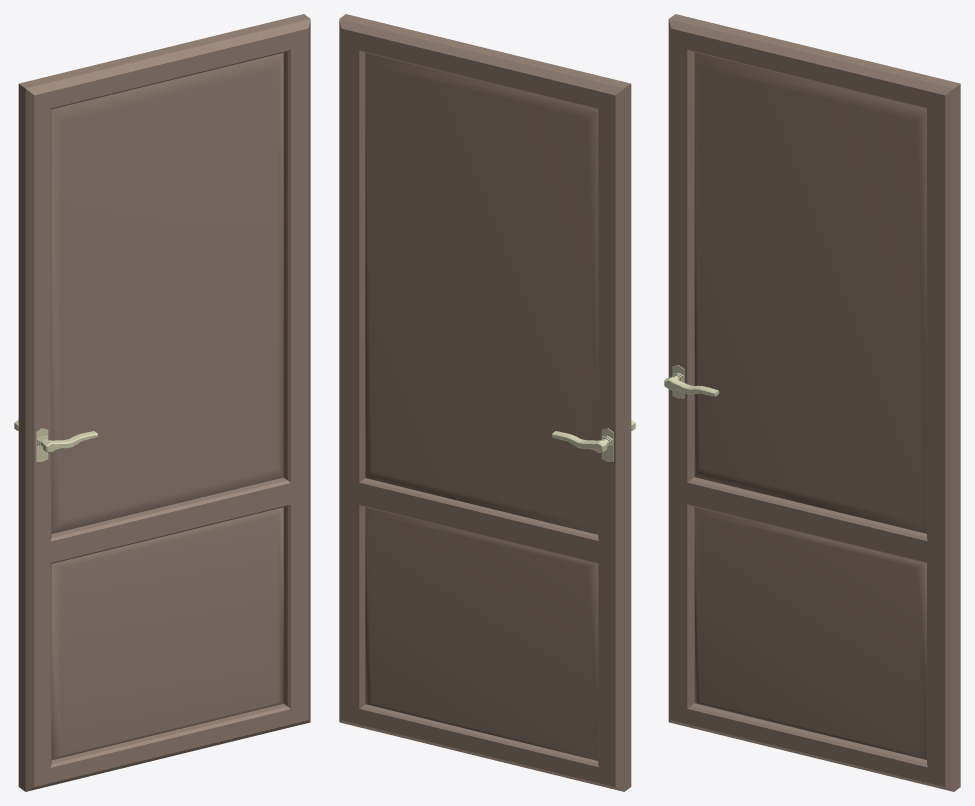
Rendered from Door.fbx.
3 views of the same model, side by side, from view 1: azimuth 30°, elevation 25°; view 2: azimuth 150°, elevation 25°; view 3: azimuth 330°, elevation 25° (orthographic).
Parts seen in each view (by area): view 1: Door, Handle; view 2: Door, Handle2; view 3: Door, Handle.
Boxes of the visible parts, box(x1,y1,x2,y2) form: Door: box(18, 14, 310, 791); Handle: box(36, 428, 97, 461); Door: box(339, 14, 631, 791); Handle2: box(552, 428, 613, 461); Door: box(668, 14, 960, 791); Handle: box(664, 365, 719, 398).
Size of the model in its own units: 87 by 205 by 17.41.
